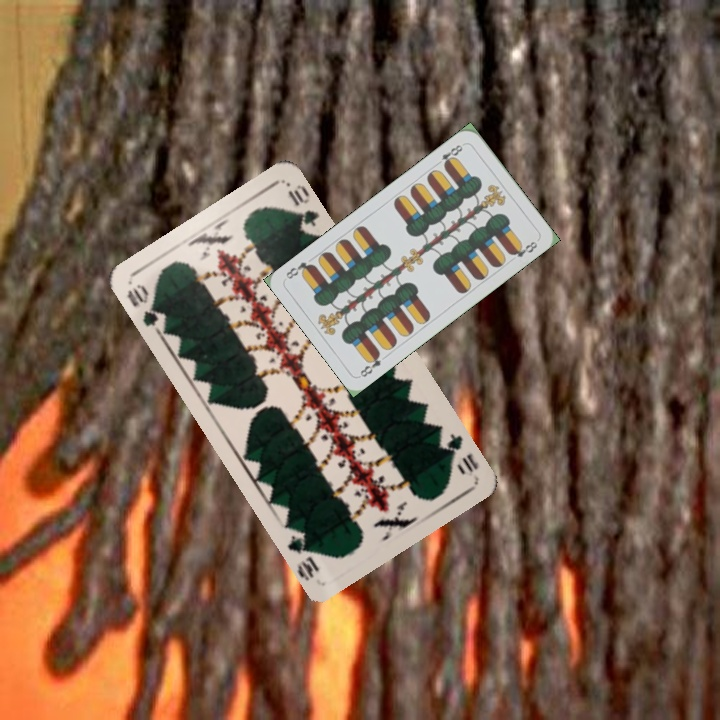E8: (432, 140, 467, 170), (356, 348, 384, 380)
G10: (122, 280, 169, 331), (435, 428, 481, 476)
